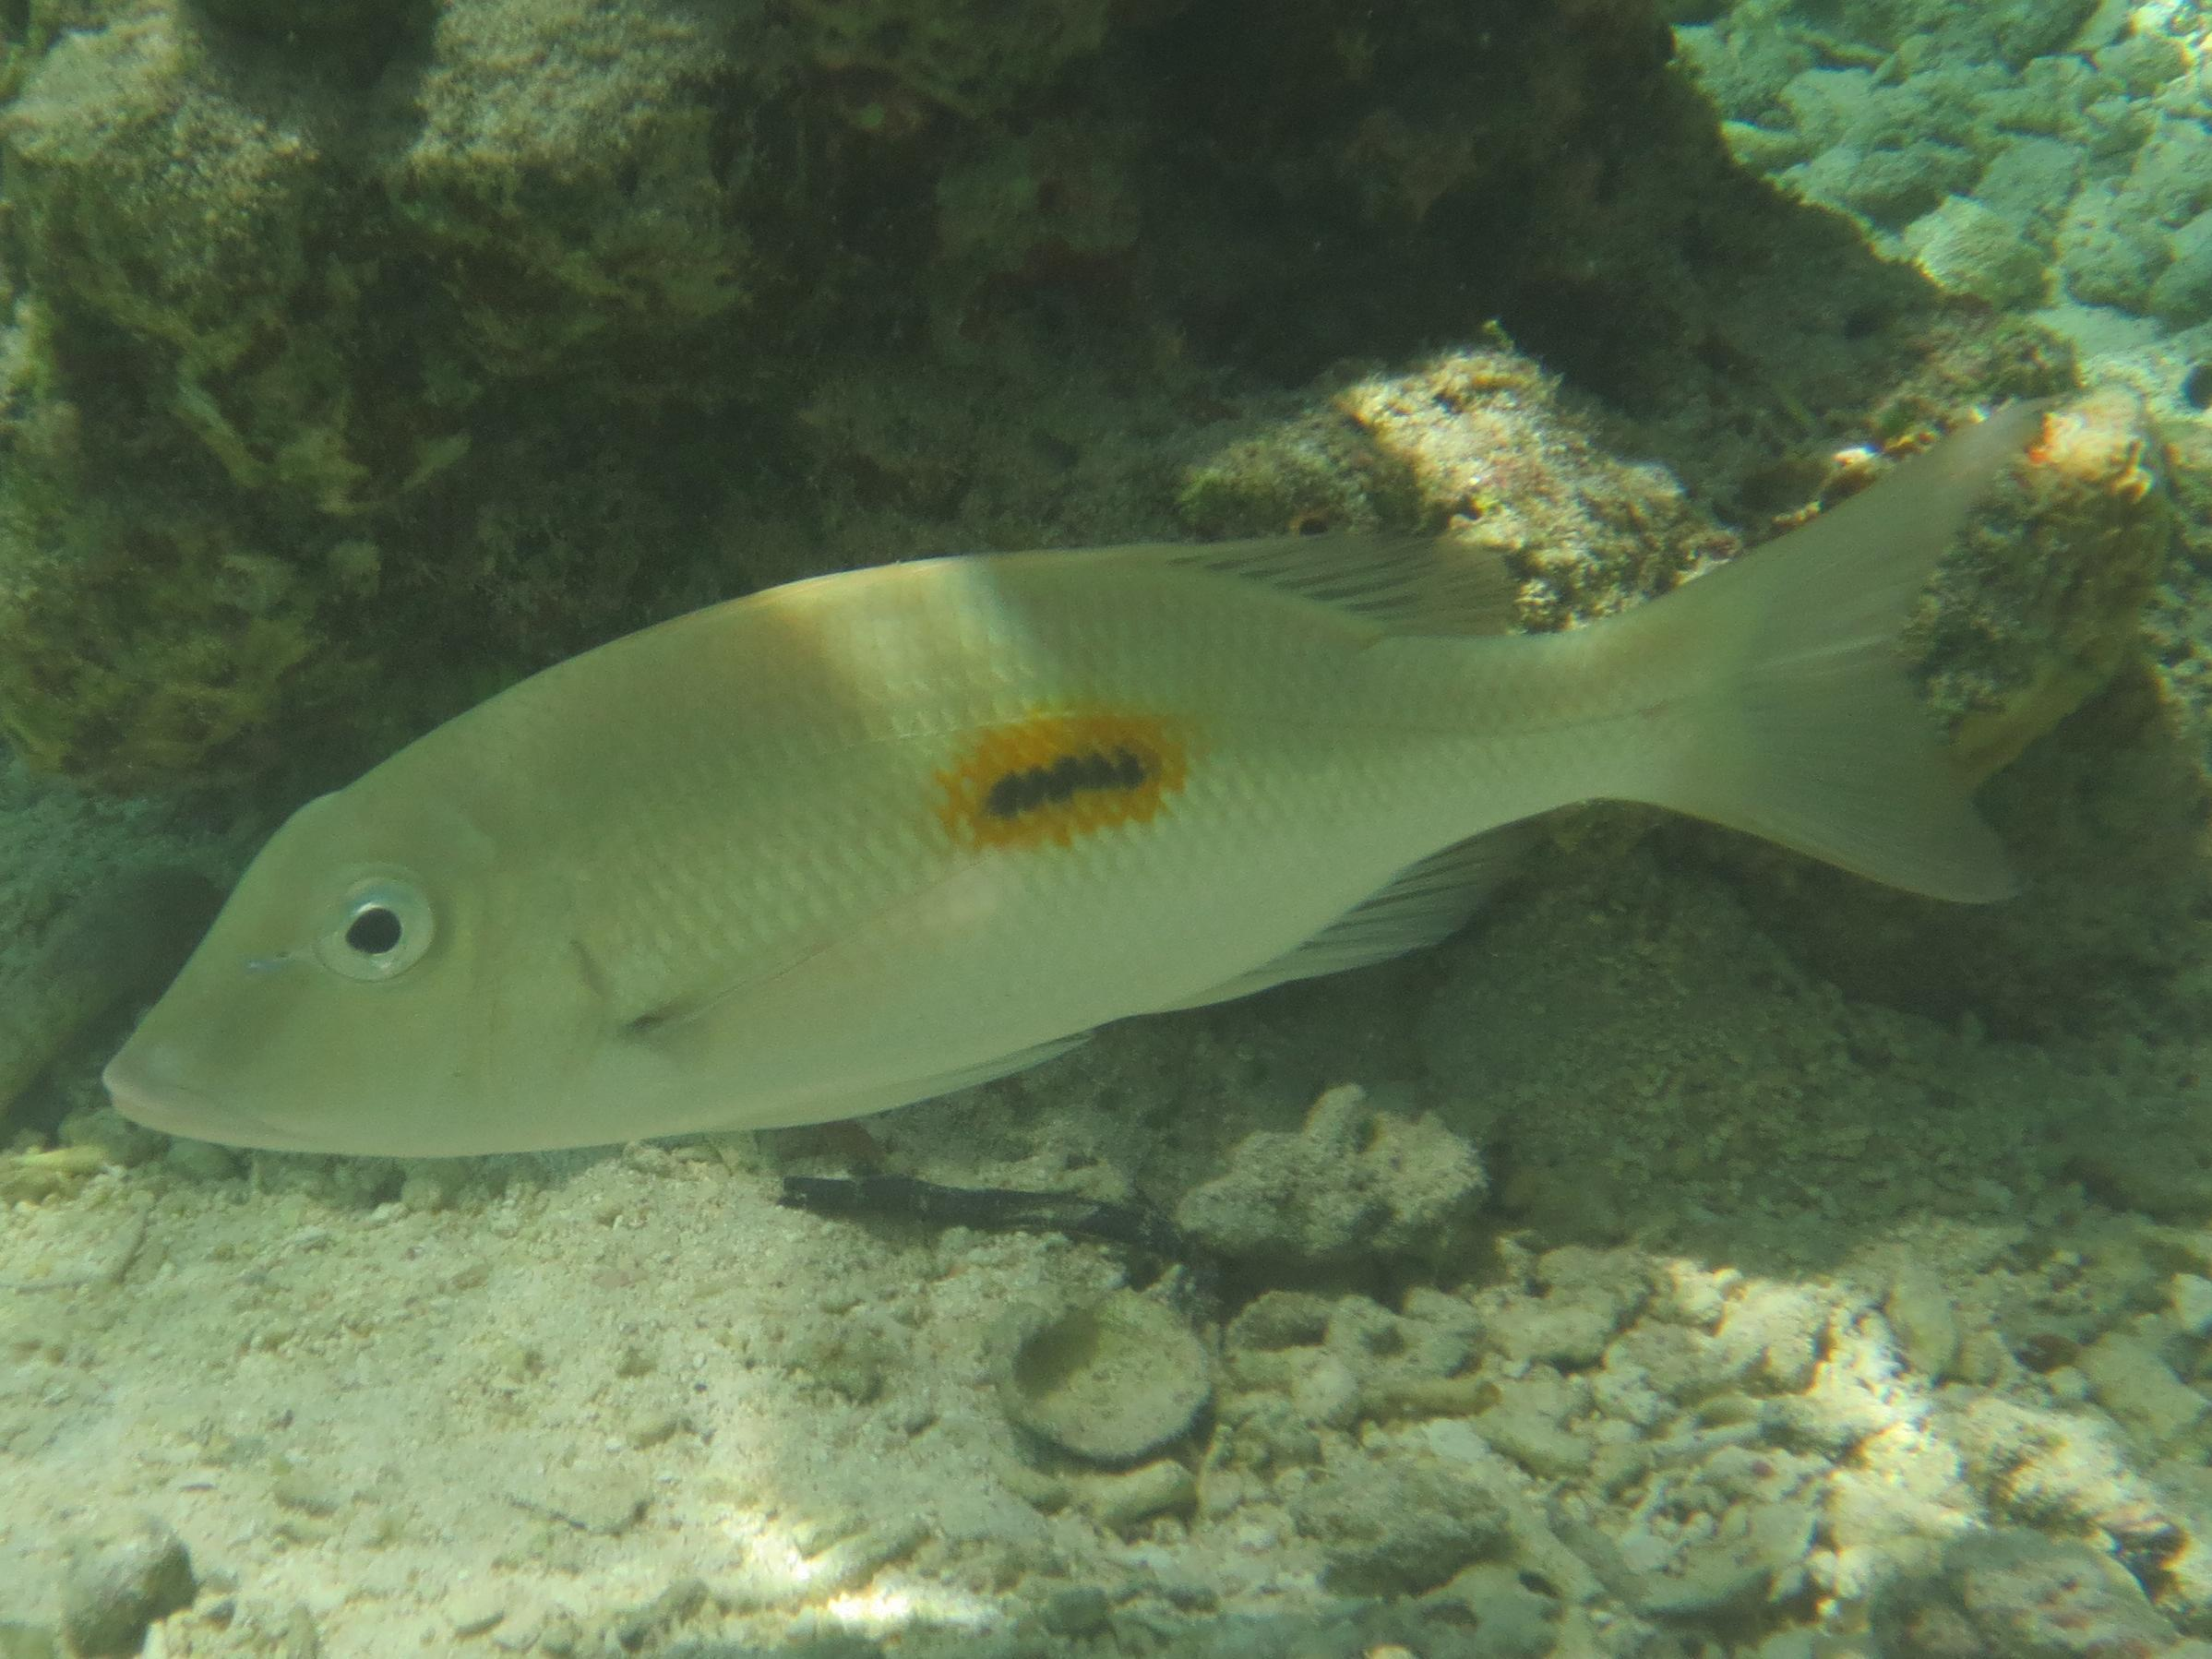Fish: (68, 361, 2086, 1202)
